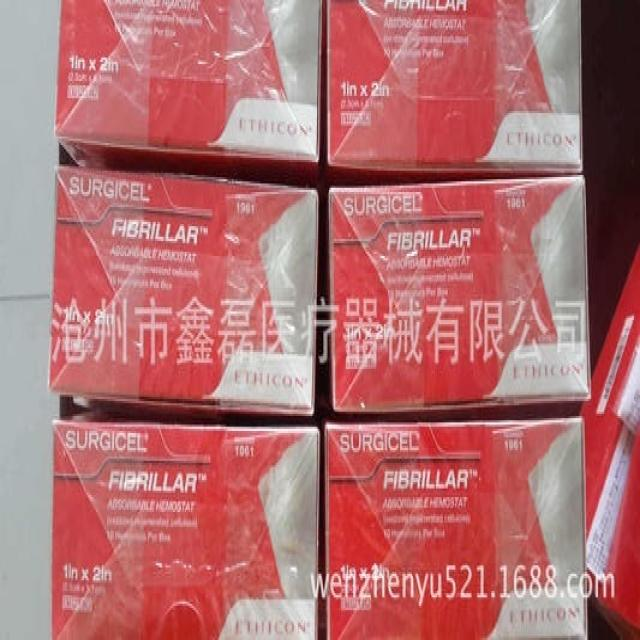box: (48, 167, 317, 413), (328, 175, 592, 416), (51, 402, 316, 637), (325, 418, 590, 638), (58, 2, 322, 178), (322, 1, 584, 175), (583, 247, 639, 638)
